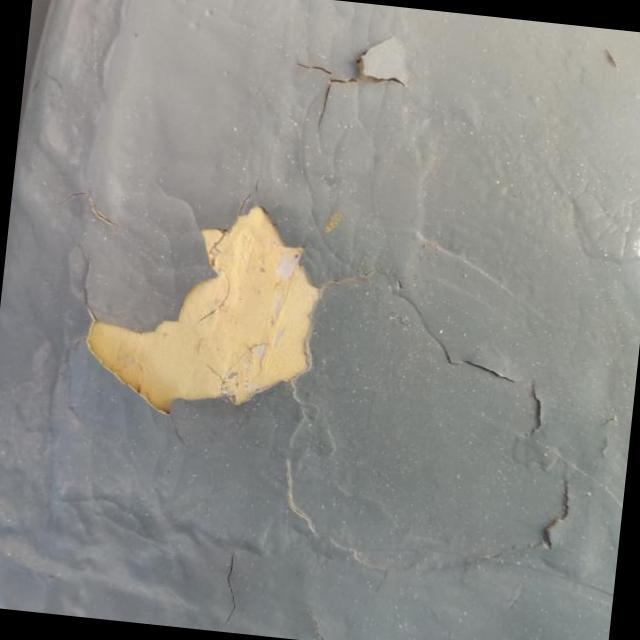Paint-off: (86, 206, 319, 413), (279, 36, 426, 98)
